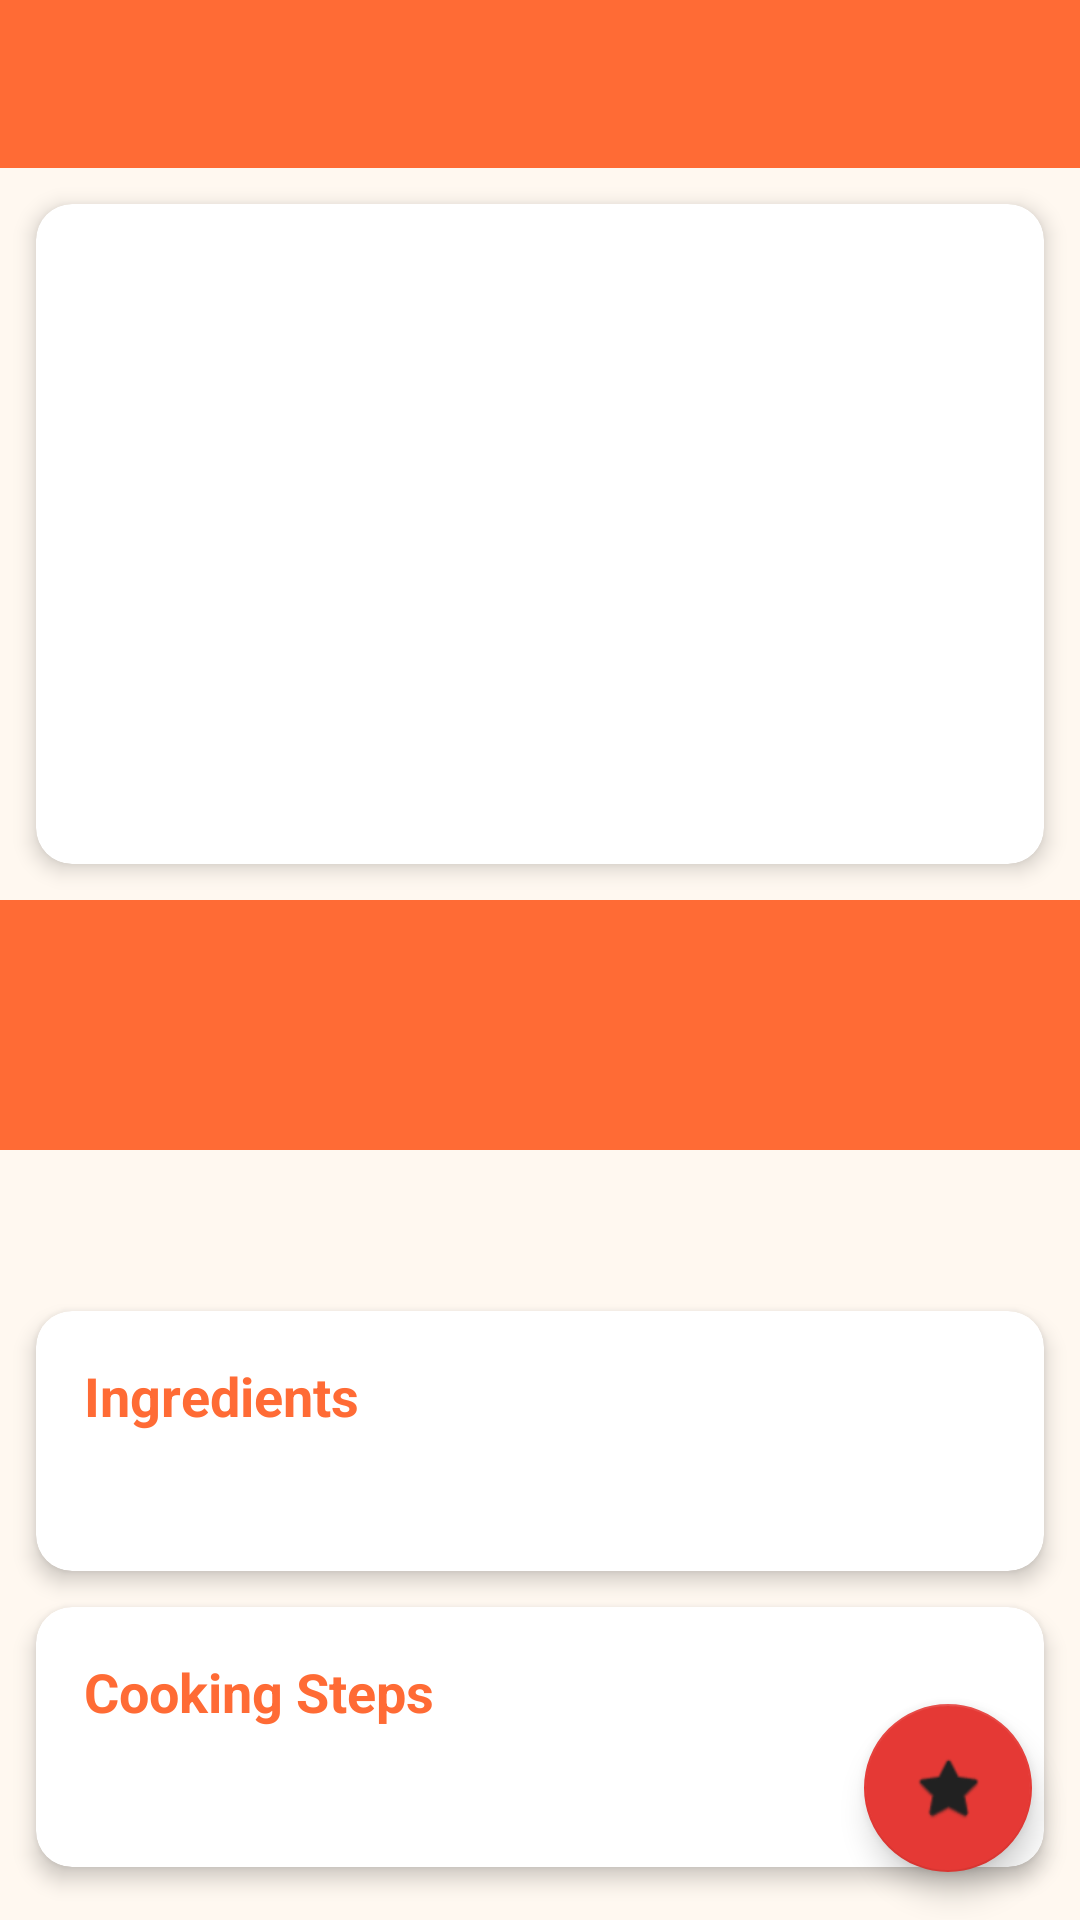

Icon bounding boxes for this 1080px×1920px phone screenshot, format (x1, y1, x2, y2):
Toggle Favorite: (864, 1704, 1032, 1872)
